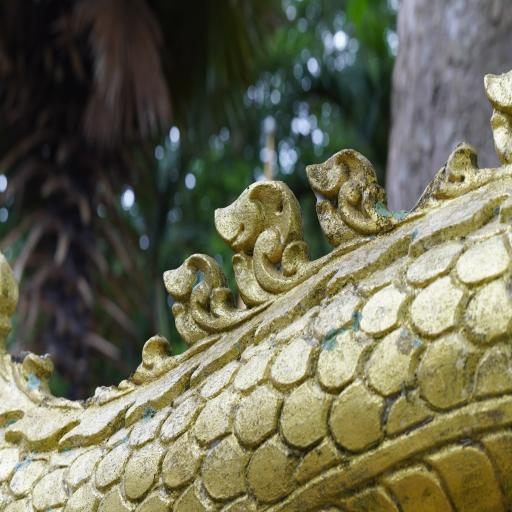la: (214, 156, 301, 304), (140, 228, 242, 345), (290, 131, 380, 258), (479, 48, 512, 187)
